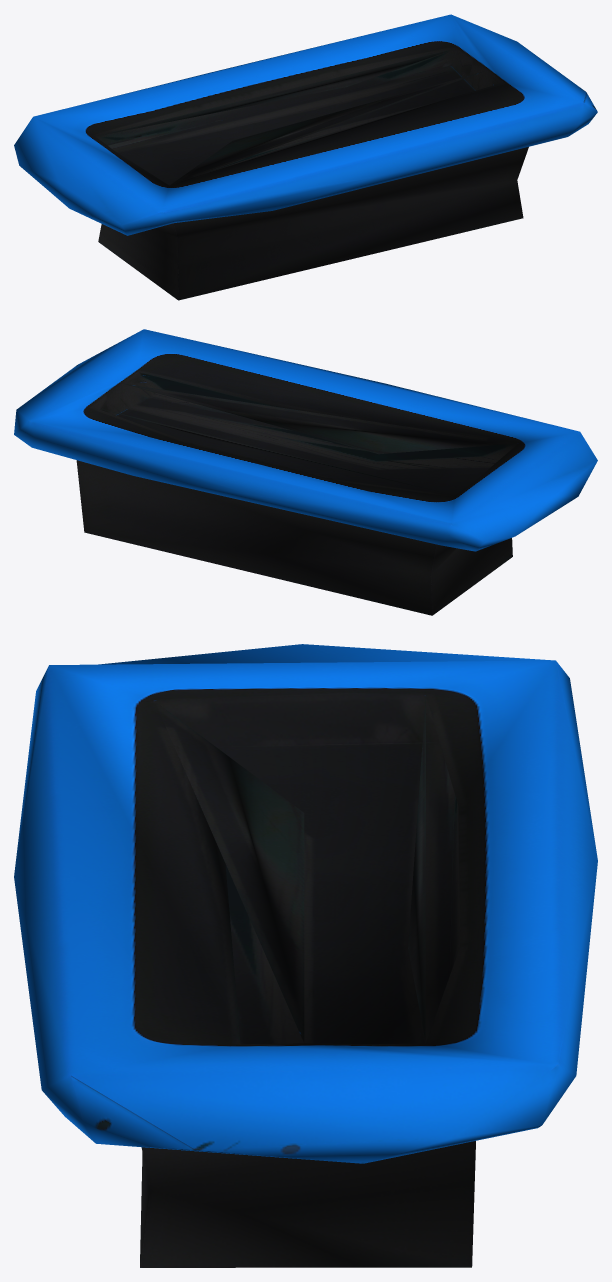
File: PORSCHESPOILER.glb
3 views of the same model, one above another, from view 1: azimuth 30°, elevation 25°; view 2: azimuth 150°, elevation 25°; view 3: azimuth 270°, elevation 25° (orthographic). The views are drawn at different scales.
Visible parts, largest first — view 1: Mesh_0; view 2: Mesh_0; view 3: Mesh_0.
Boxes of the visible parts, box(x1,y1,x2,y2) form: Mesh_0: box(14, 14, 597, 300); Mesh_0: box(14, 329, 597, 615); Mesh_0: box(14, 644, 597, 1267).
Bounding box in the file's own units: 1.88 × 0.4195 × 0.9451.
1 material, 1 textured.
